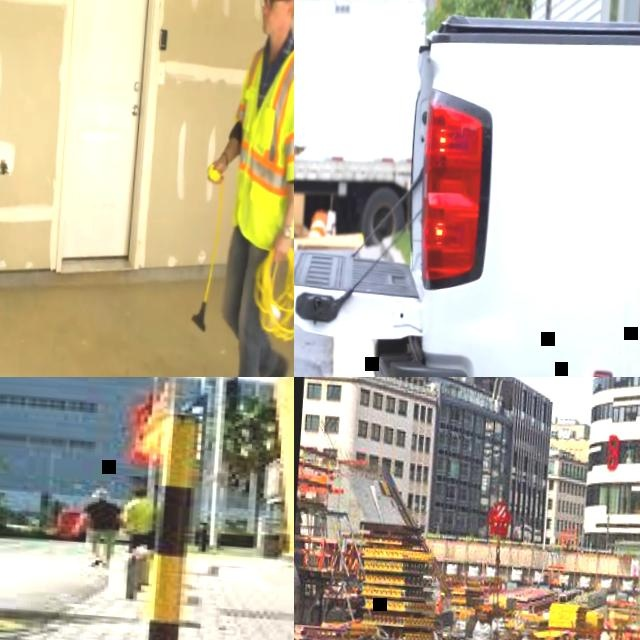Hardhat: (439, 590, 443, 596)
NO-Hardhat: (91, 487, 108, 498), (131, 488, 145, 497)
NO-Mask: (261, 4, 287, 38)
NO-Safety Vest: (126, 500, 155, 533), (86, 504, 119, 531)
Person: (184, 0, 294, 377), (75, 486, 124, 569), (117, 488, 157, 556), (435, 591, 444, 614)
Safety Vest: (226, 41, 294, 253), (436, 597, 441, 611)
vehicle: (294, 0, 640, 377)
